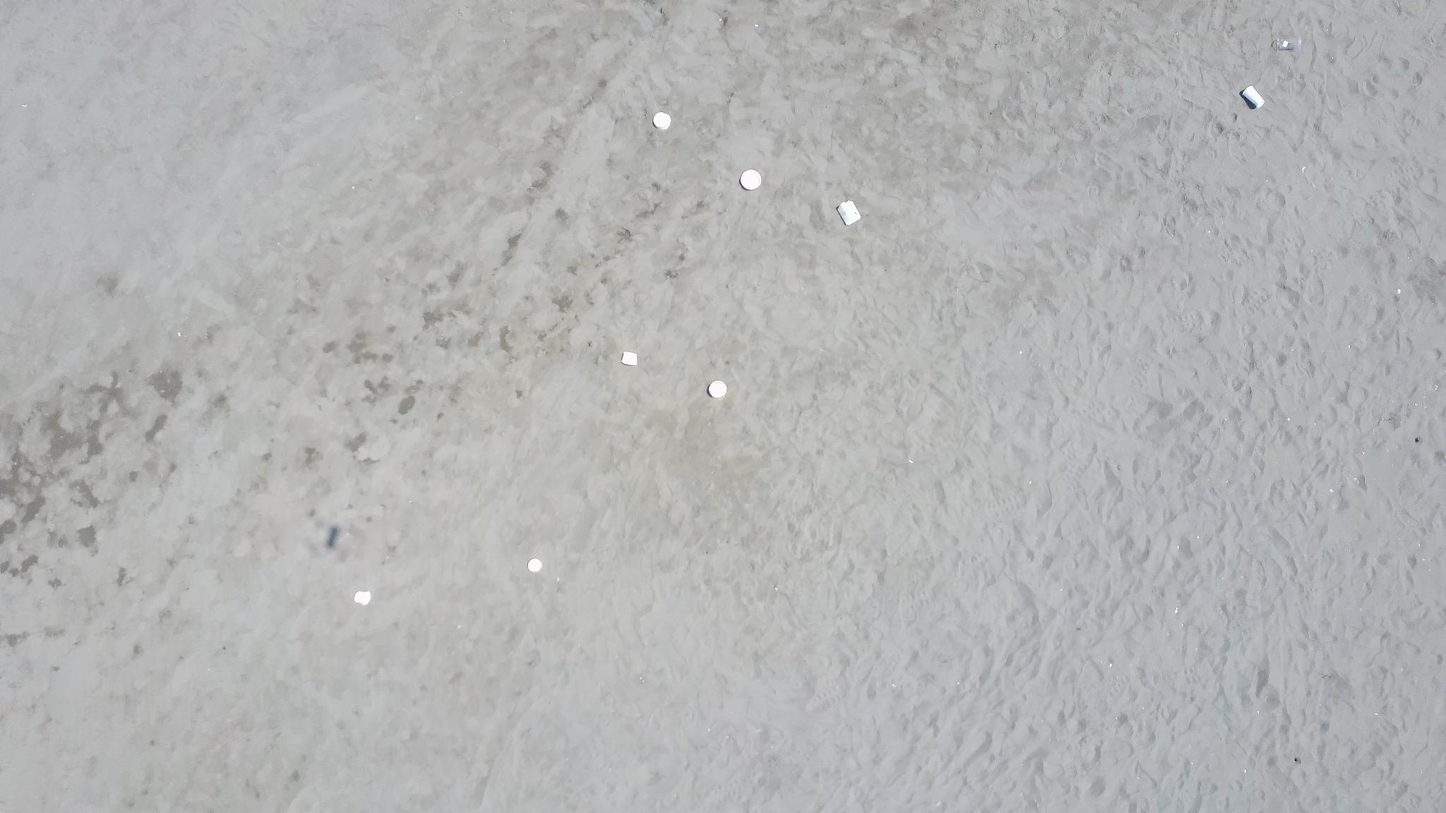Garbage: (837, 200, 860, 225), (1240, 85, 1262, 108), (740, 169, 760, 190), (1272, 38, 1300, 51), (652, 111, 671, 129), (707, 380, 726, 397), (326, 525, 339, 547), (355, 590, 371, 604), (621, 351, 638, 364), (528, 558, 540, 571)
